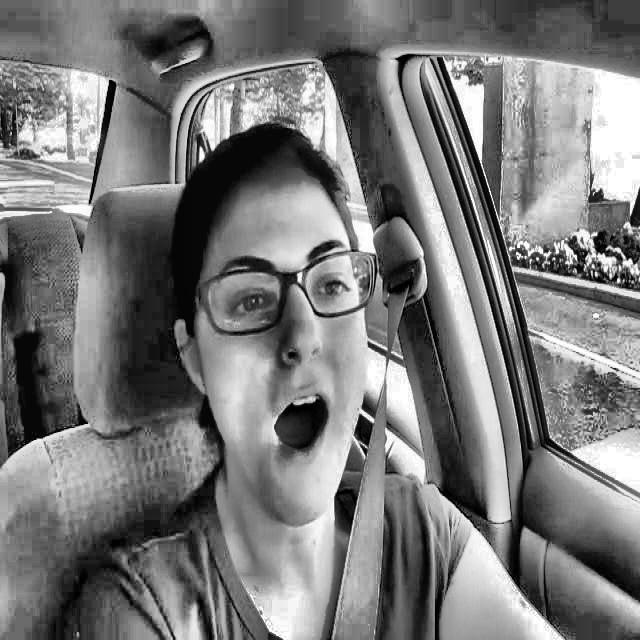open_eyes: (210, 272, 286, 333), (305, 263, 374, 313)
open_mouth: (253, 381, 347, 481)
